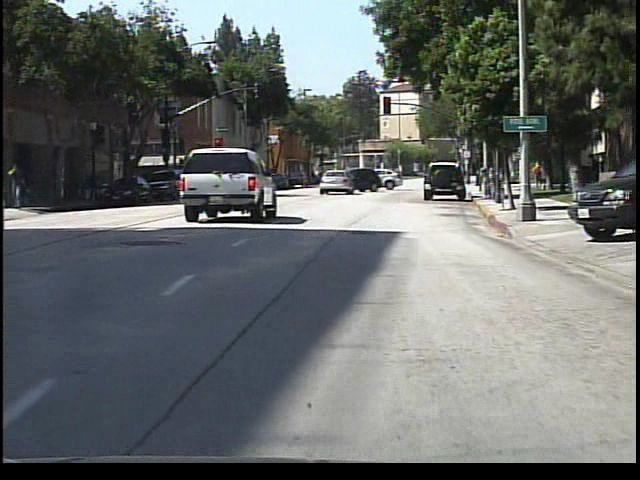person: (13, 162, 32, 211), (321, 161, 340, 193), (531, 158, 547, 191), (475, 155, 490, 184)
